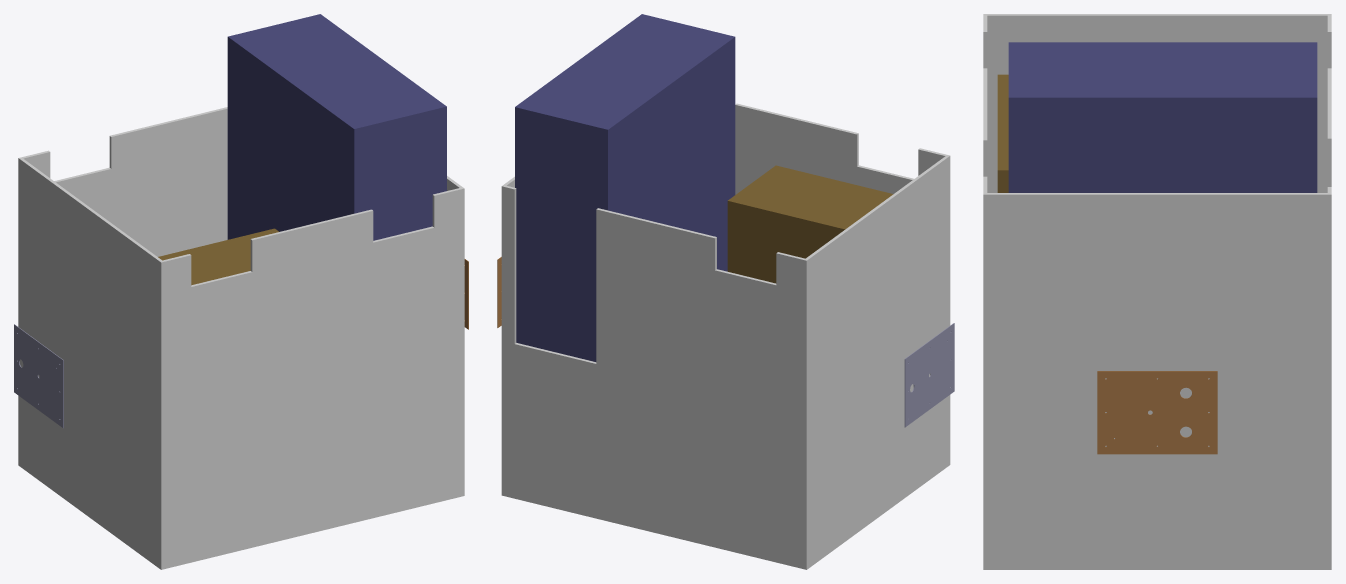
File: assembly-exploded.glb
The picture shows the model from 3 angles, left to right: view 1: azimuth 30°, elevation 25°; view 2: azimuth 150°, elevation 25°; view 3: azimuth 270°, elevation 25°; orthographic projection. The views are drawn at different scales.
Parts seen in each view (by area): view 1: container_shell, GRD-SWG-001, ARC-PLT-CG, GRD-XFM-001; view 2: container_shell, GRD-SWG-001, GRD-XFM-001, ARC-PLT-CG; view 3: container_shell, GRD-SWG-001, ARC-PLT-BG-DC, GRD-XFM-001.
Boxes of the visible parts, left/top/right/bottom form: container_shell: left=18, top=107, right=464, bottom=569; GRD-SWG-001: left=227, top=14, right=446, bottom=240; ARC-PLT-CG: left=14, top=324, right=63, bottom=428; GRD-XFM-001: left=158, top=228, right=278, bottom=285; container_shell: left=501, top=103, right=950, bottom=569; GRD-SWG-001: left=515, top=14, right=735, bottom=361; GRD-XFM-001: left=727, top=165, right=893, bottom=283; ARC-PLT-CG: left=904, top=323, right=954, bottom=427; container_shell: left=983, top=14, right=1331, bottom=569; GRD-SWG-001: left=1008, top=42, right=1317, bottom=192; ARC-PLT-BG-DC: left=1097, top=371, right=1217, bottom=454; GRD-XFM-001: left=997, top=74, right=1008, bottom=192.
Bounding box in the file's own units: 3997 × 3613 × 2438.
